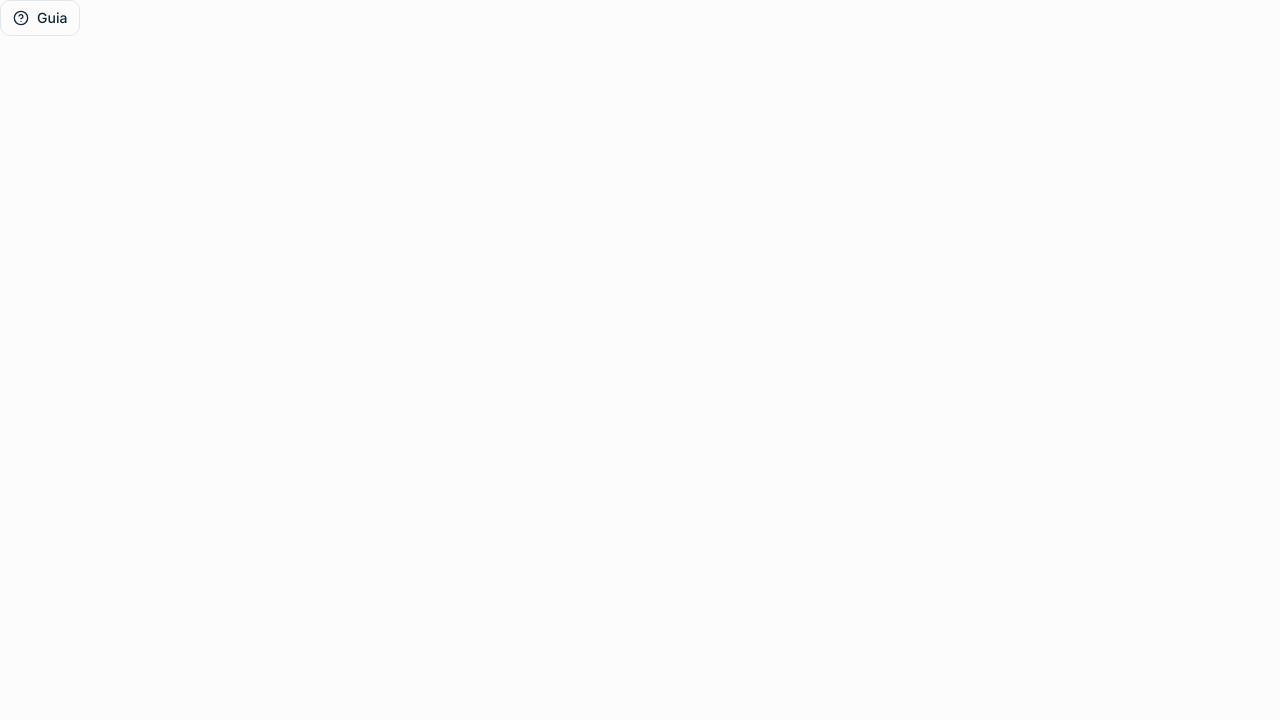
Scenario: guia manual permanece disponível com perfil incompleto e permite concluir/reabrir
Click the button with aria-label "Guia desta página" at (40, 18), box [0,0,80,36]
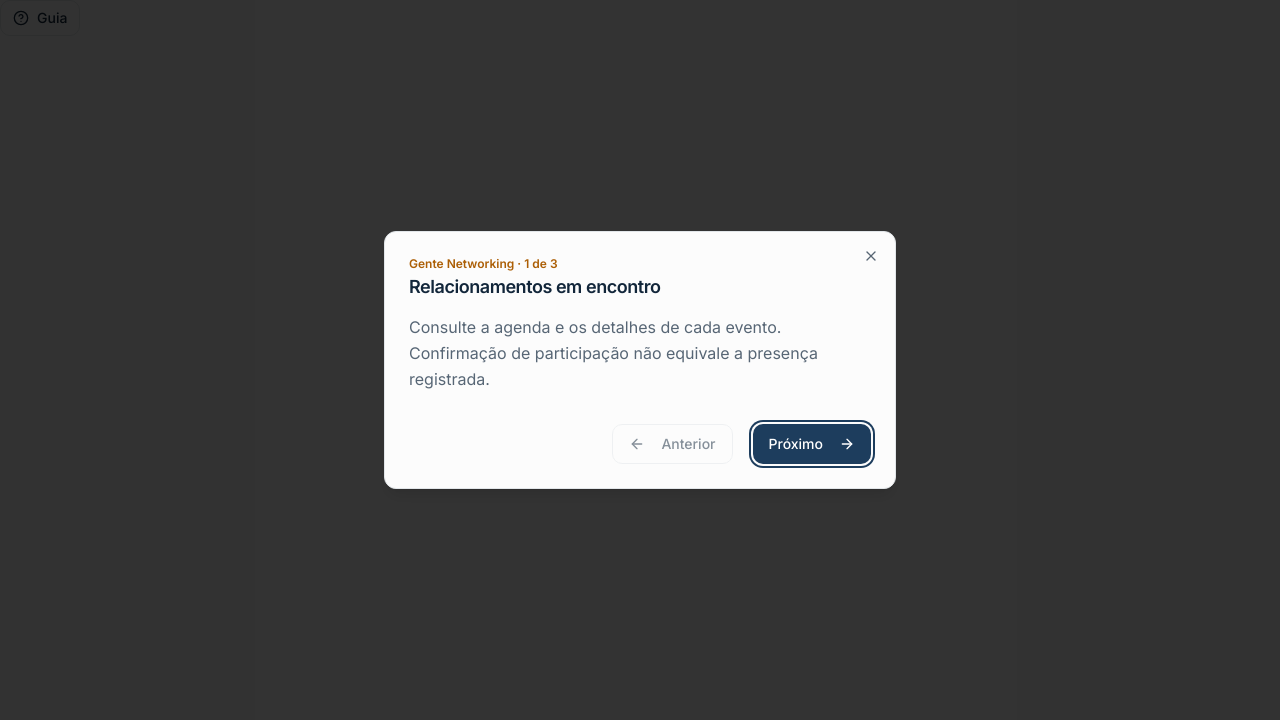
Expected: the dialog is shown, [384,231,896,489]
Click the button "Próximo" at (812, 444), box [752,424,871,464]
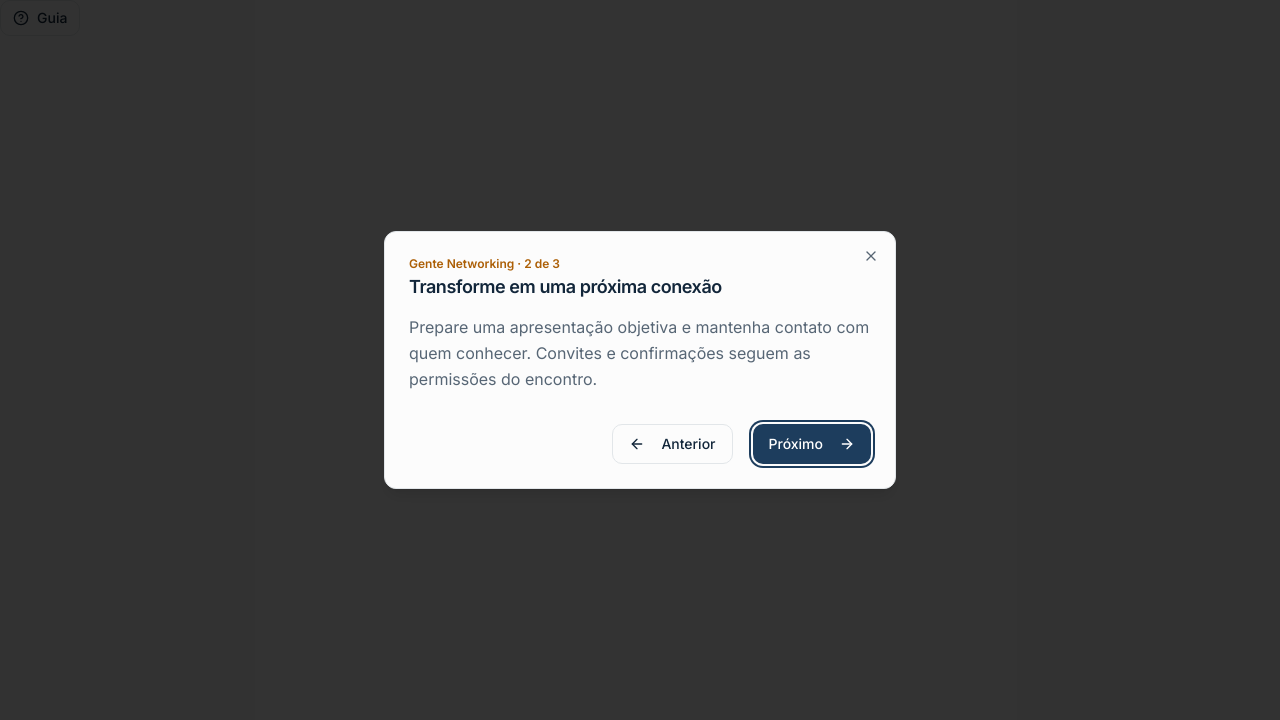
Click the button "Próximo" at (812, 444), box [752,424,871,464]
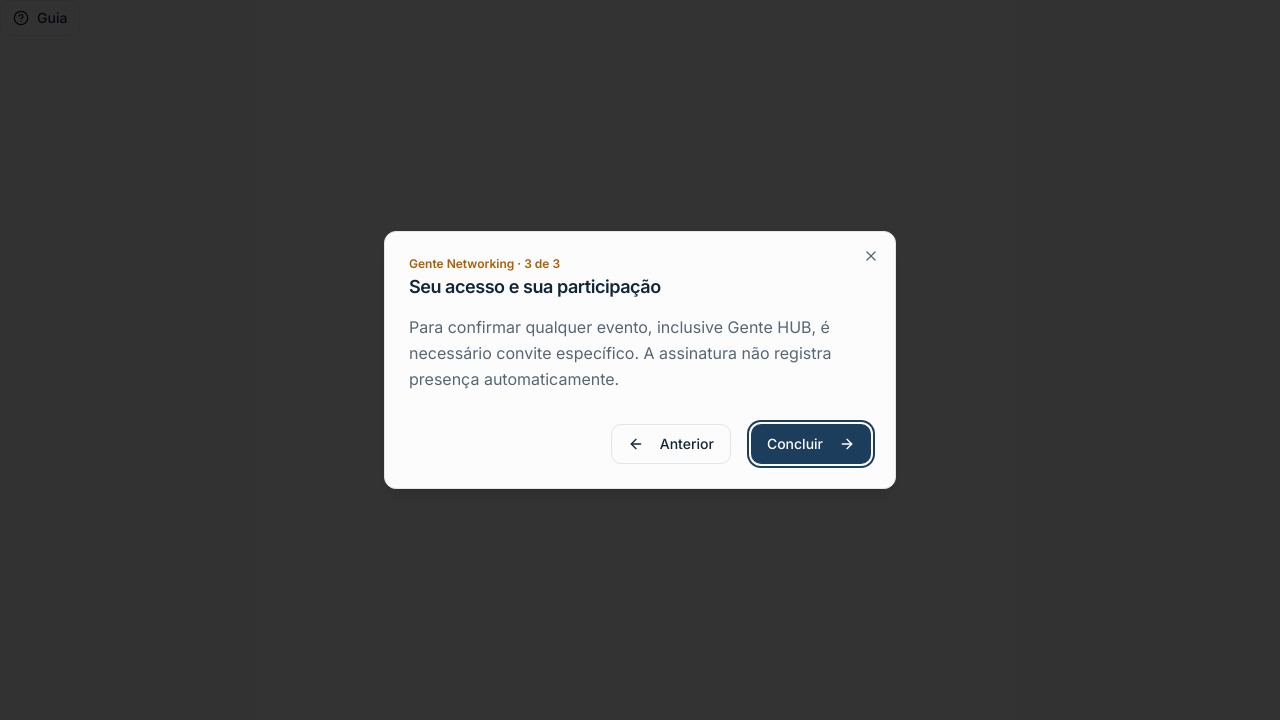
Click the button "Concluir" at (811, 444), box [751,424,871,464]
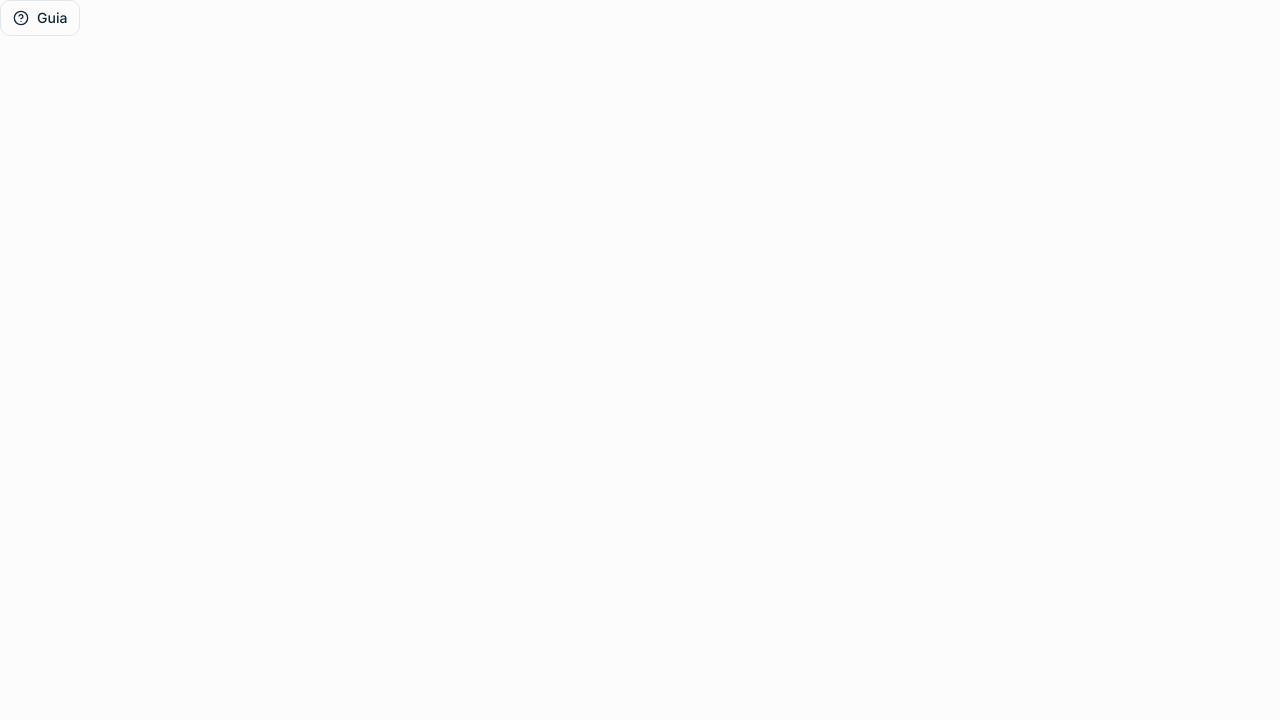
Expected: the dialog is gone
Click the button with aria-label "Guia desta página" at (40, 18), box [0,0,80,36]
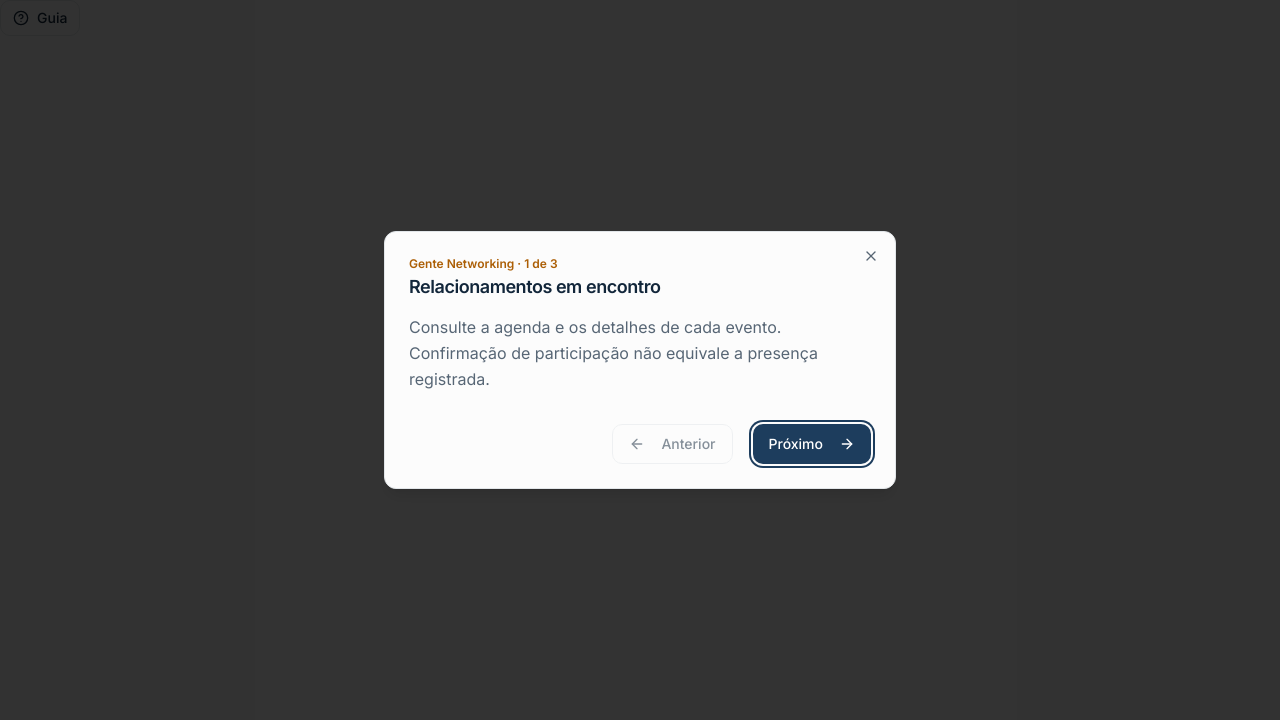
Expected: the dialog is shown, [384,231,896,489]
